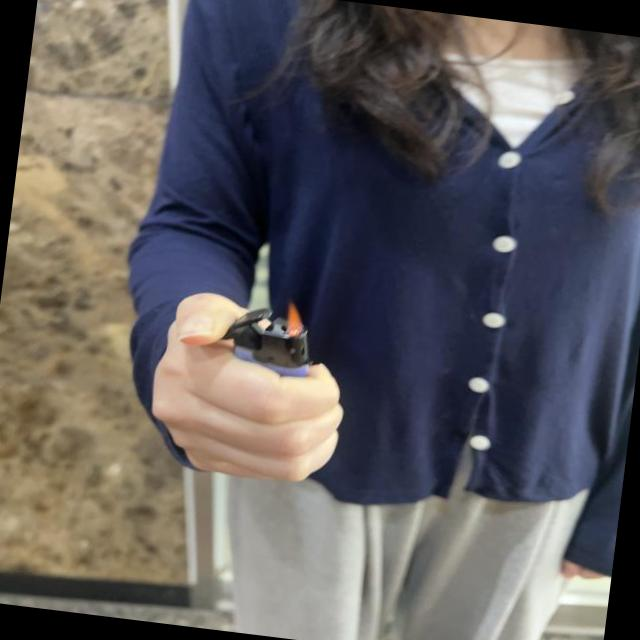Fire: (279, 300, 308, 338)
